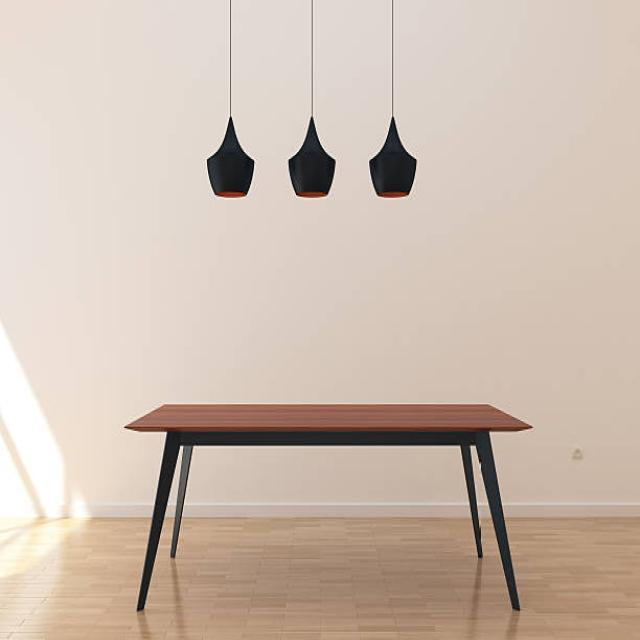table: (124, 402, 534, 614)
